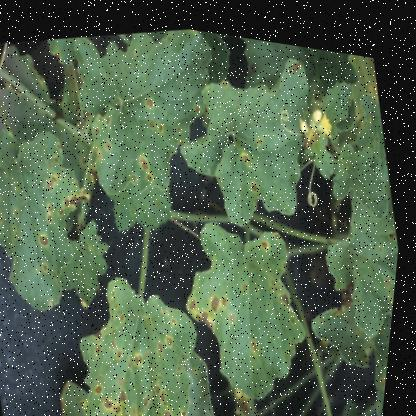AlternariaBrassicicola: (44, 165, 71, 193), (66, 186, 94, 207), (157, 374, 179, 399), (243, 266, 265, 288), (210, 285, 228, 311), (39, 228, 56, 250), (253, 326, 268, 350), (158, 331, 173, 355), (145, 385, 162, 406), (122, 380, 137, 402), (102, 133, 118, 153), (107, 390, 123, 410), (145, 111, 162, 129), (143, 88, 160, 106), (139, 148, 154, 168), (250, 169, 264, 190), (240, 140, 254, 159), (262, 227, 275, 247), (138, 346, 151, 365), (223, 284, 236, 303), (43, 258, 58, 274), (46, 196, 61, 212), (166, 401, 183, 415), (168, 327, 181, 345), (147, 166, 160, 182), (254, 126, 269, 139), (127, 403, 143, 415), (173, 308, 185, 323), (232, 299, 242, 317), (100, 378, 112, 393), (15, 206, 26, 221), (99, 338, 109, 354), (49, 212, 60, 225), (131, 167, 142, 180), (114, 334, 124, 348), (59, 203, 69, 217), (0, 225, 8, 242), (117, 413, 132, 415)
